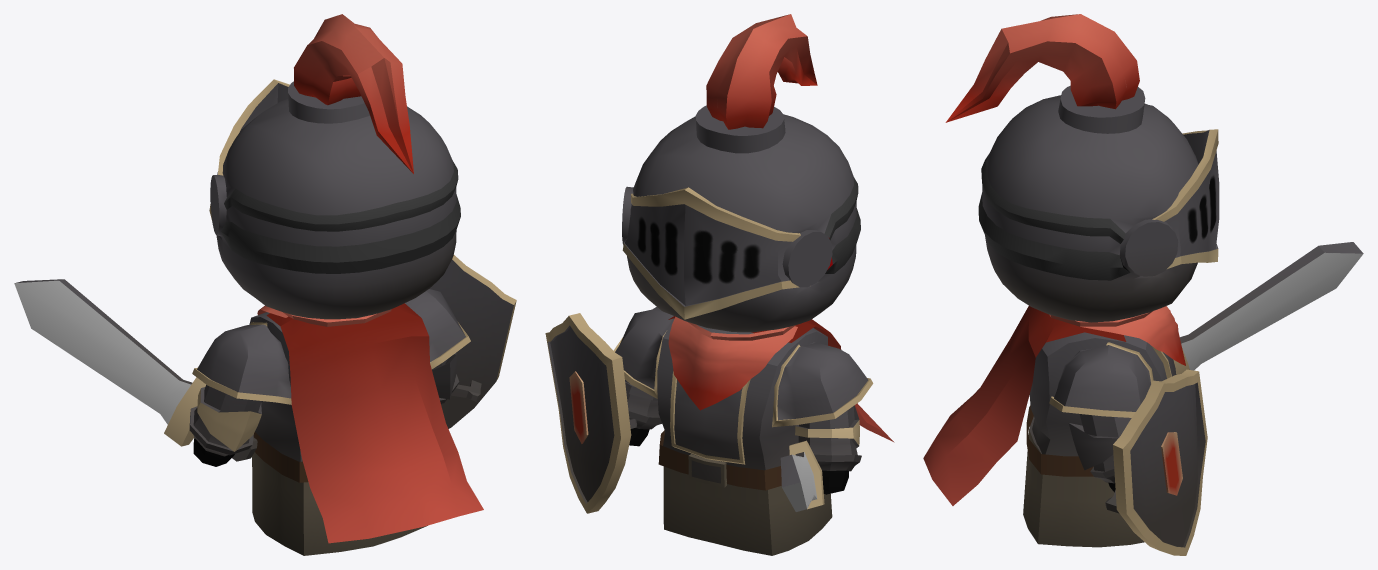
Rendered from Knight_Big.fbx.
3 views of the same model, side by side, from view 1: azimuth 30°, elevation 25°; view 2: azimuth 150°, elevation 25°; view 3: azimuth 270°, elevation 25° (orthographic). The views are drawn at different scales.
Visible parts, largest first — view 1: Skin; view 2: Skin, Base; view 3: Skin.
Boxes of the visible parts, x1,y1,x2,y2 form: Skin: (14, 14, 516, 555); Skin: (545, 14, 894, 555); Base: (629, 238, 848, 494); Skin: (923, 14, 1363, 555).
Size of the model in its own units: 70.79 by 89.91 by 71.83.
